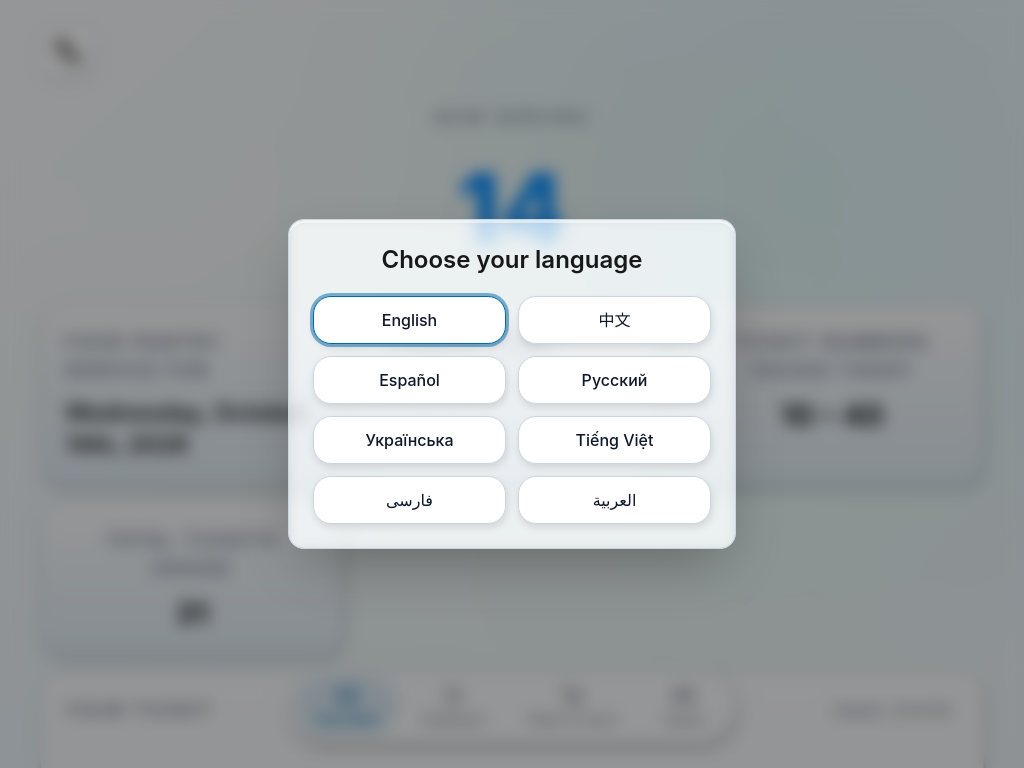
Test: homepage ticket persistence › dismisses onboarding from the ticket step via the close button without saving
Click the button "English" at (410, 320), box [313,296,506,344]
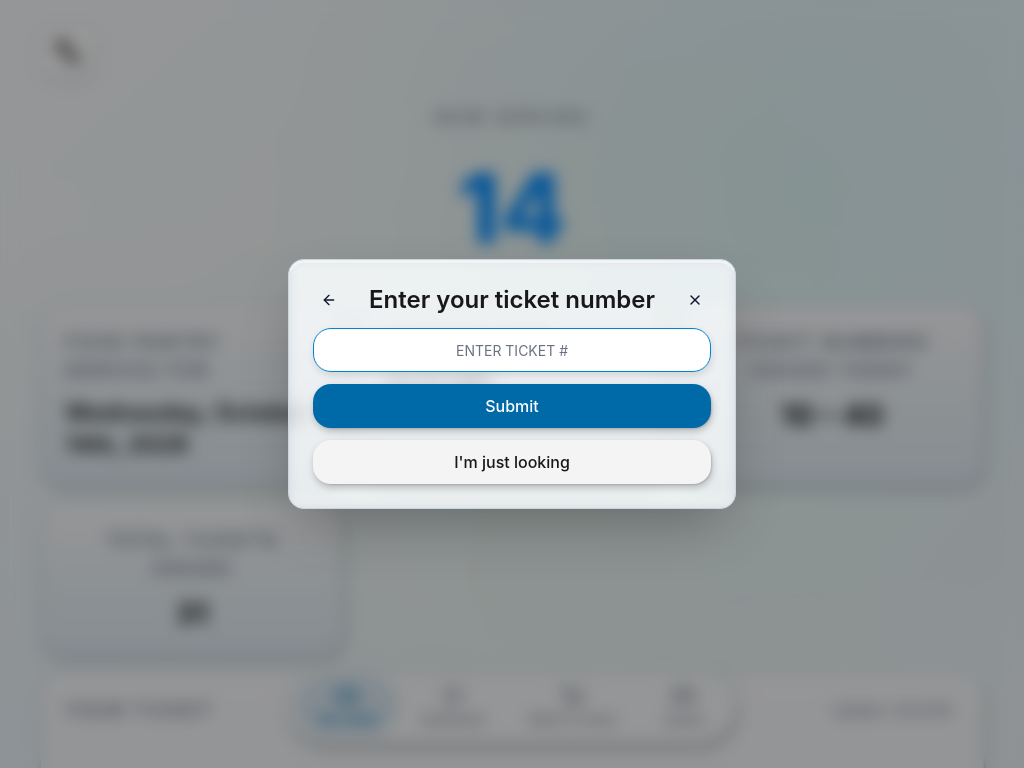
# The close (X) on the ticket step is the "just looking" escape hatch.
Click the button named "Close" at (695, 300), box [679,284,711,316]
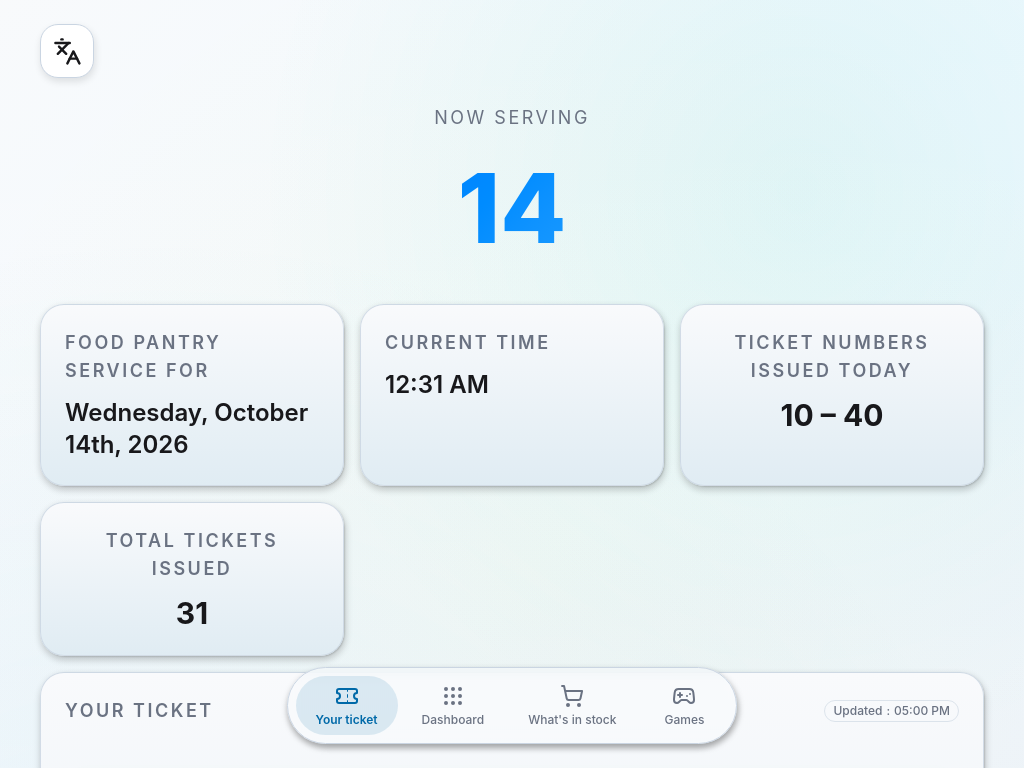
Now the dialog is gone
